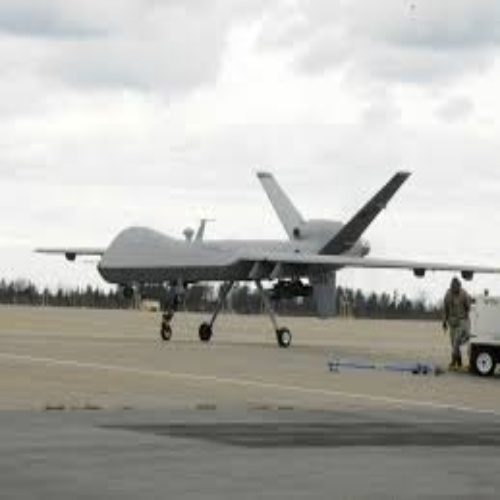uav463: (27, 170, 432, 351)
